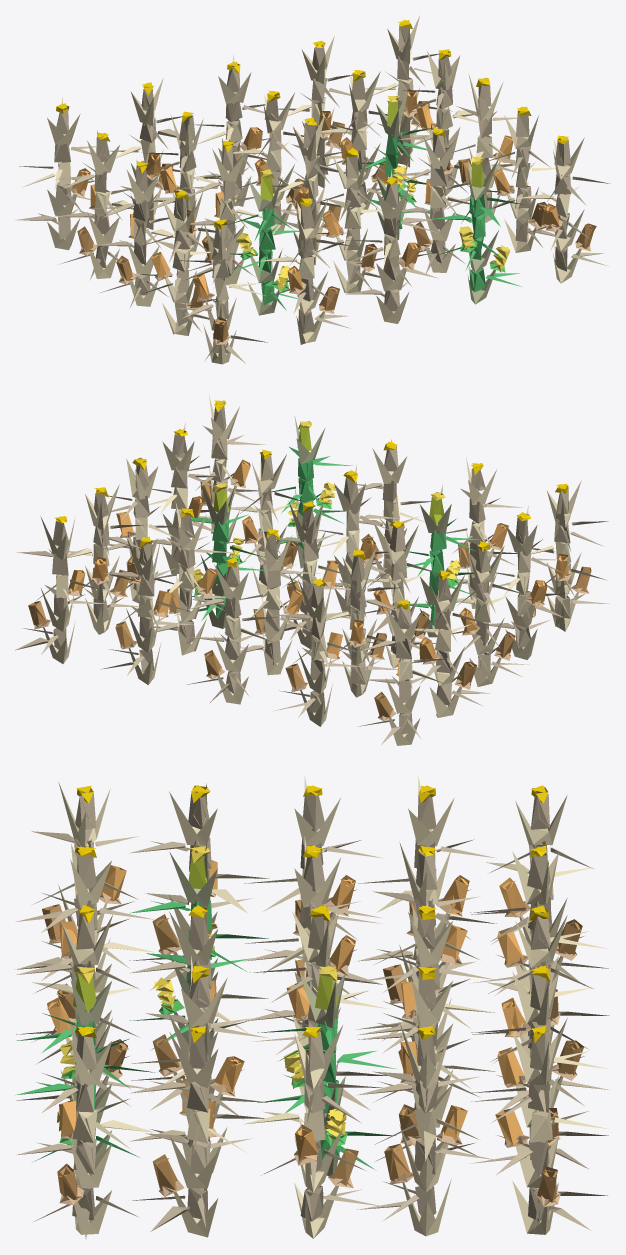
File: cornfield_lod3.fbx
The picture shows the model from 3 angles, top to bottom: view 1: azimuth 30°, elevation 25°; view 2: azimuth 150°, elevation 25°; view 3: azimuth 270°, elevation 25°; orthographic projection. The views are drawn at different scales.
Visible parts, largest first — view 1: Corn_Field_LOD3; view 2: Corn_Field_LOD3; view 3: Corn_Field_LOD3.
Part boxes in pixels (x1,y1,x2,y2): Corn_Field_LOD3: (15, 16, 610, 364); Corn_Field_LOD3: (15, 395, 609, 745); Corn_Field_LOD3: (15, 776, 610, 1239).
Bounding box in the file's own units: 501 × 161 × 421.
